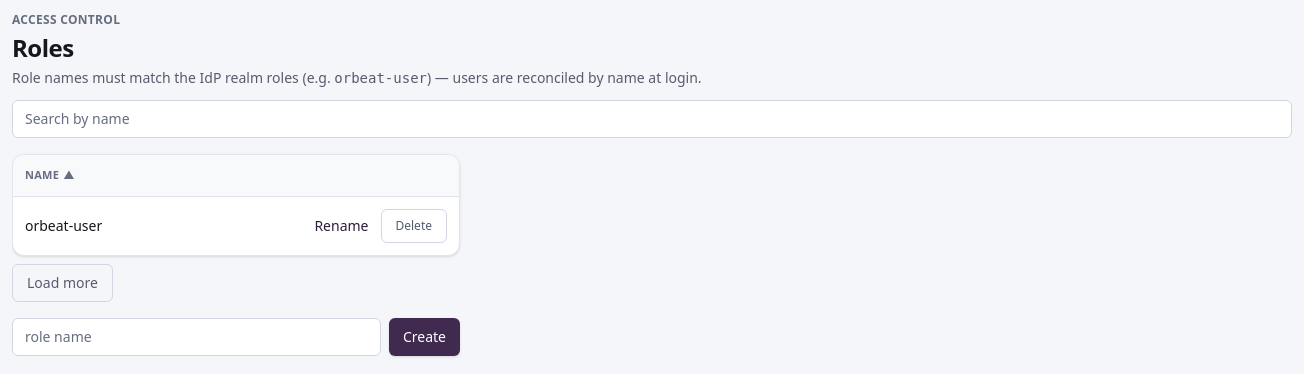
Test: an exact-multiple-of-limit final page returns zero rows and no cursor without an empty-state flash or a stuck button
Click the button "Load more": (62, 282) [12,264,113,302]
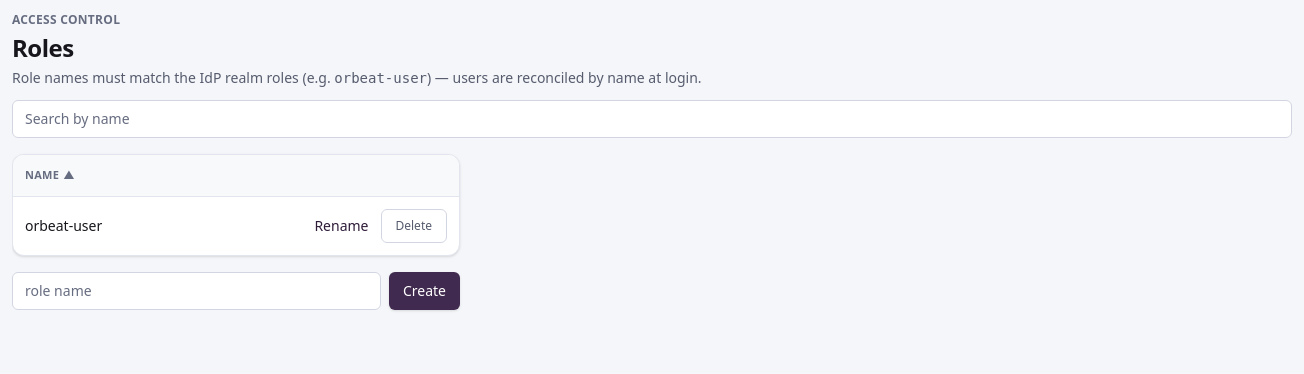
Expected: the 2nd text "orbeat-user" is shown, [25,216,102,236]
Expected: the button "Load more" is gone
